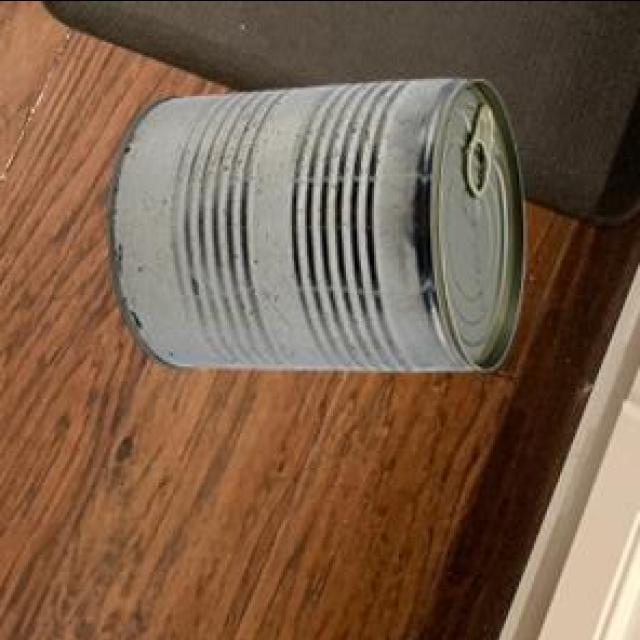logam: (111, 75, 526, 366)
